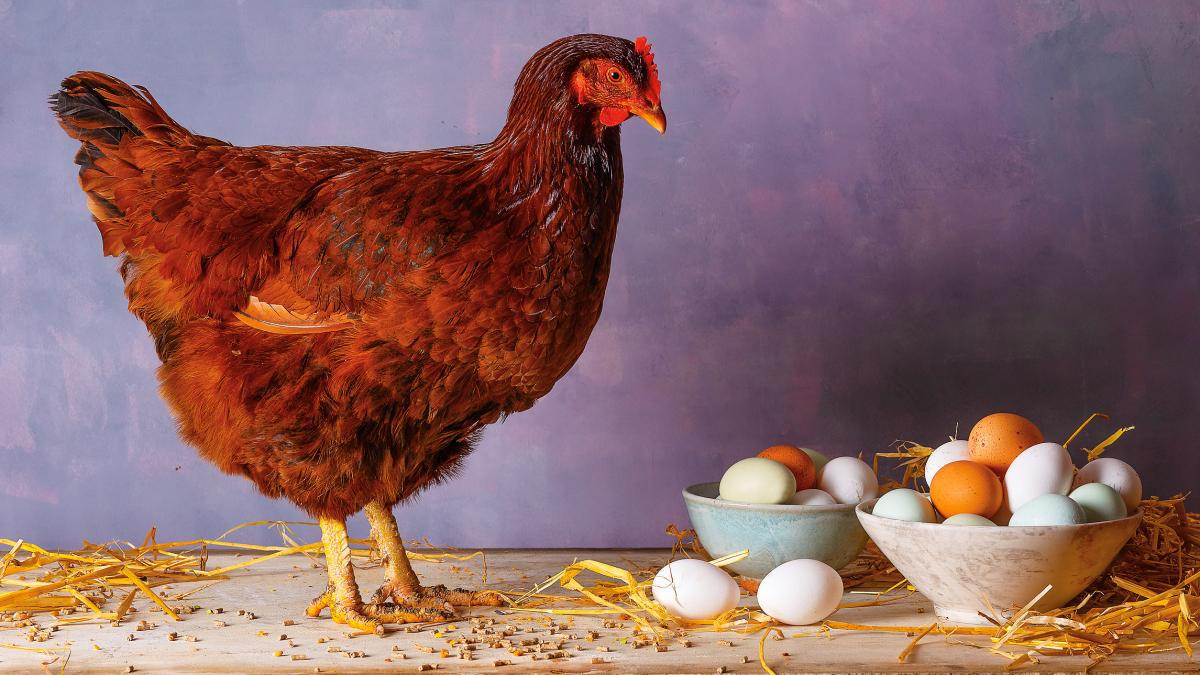egg: (645, 552, 751, 635), (749, 555, 846, 635), (920, 455, 1011, 524), (998, 437, 1076, 515), (962, 408, 1051, 474), (712, 452, 802, 511), (1077, 457, 1150, 511), (815, 455, 883, 509)
